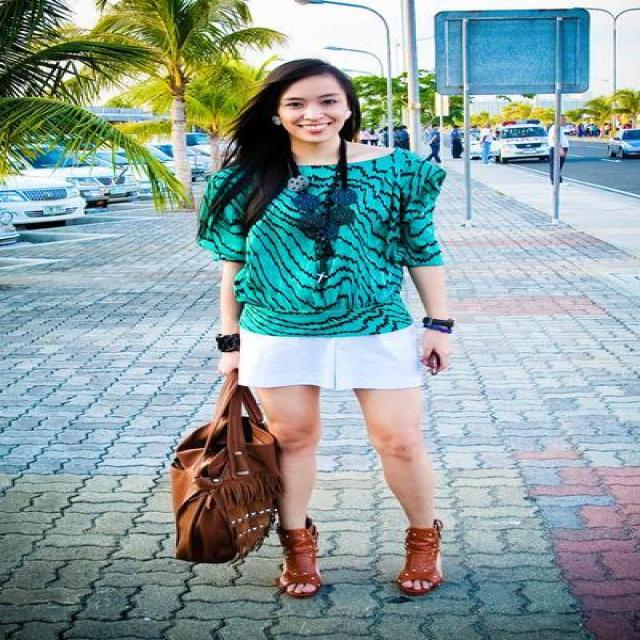bag: (150, 346, 285, 564)
shirt: (192, 147, 442, 337)
shoe: (274, 519, 442, 588)
skirt: (211, 320, 440, 396)
